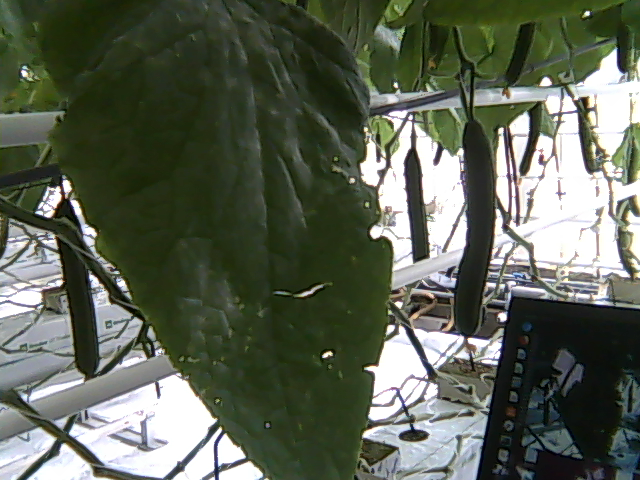concombre: (451, 111, 499, 354)
